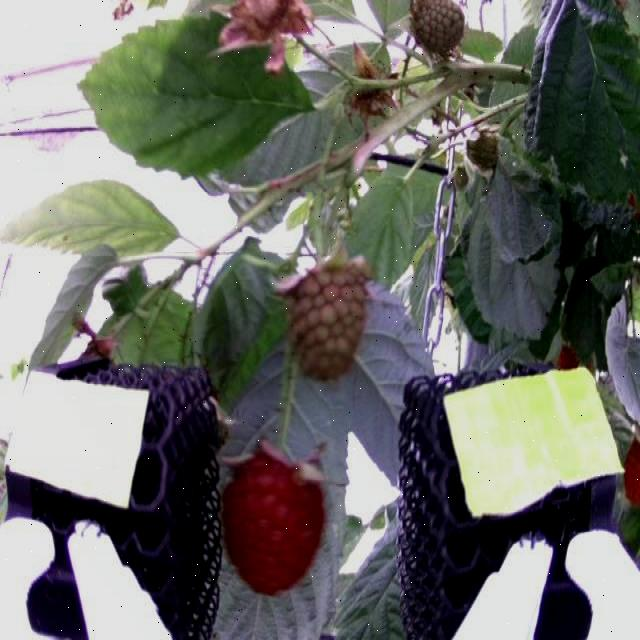Riped berries: (223, 441, 329, 594), (620, 430, 640, 510)
